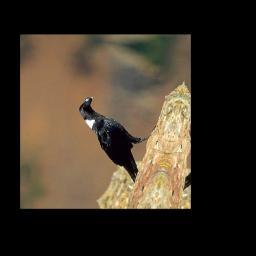Crow: (63, 94, 161, 184)
